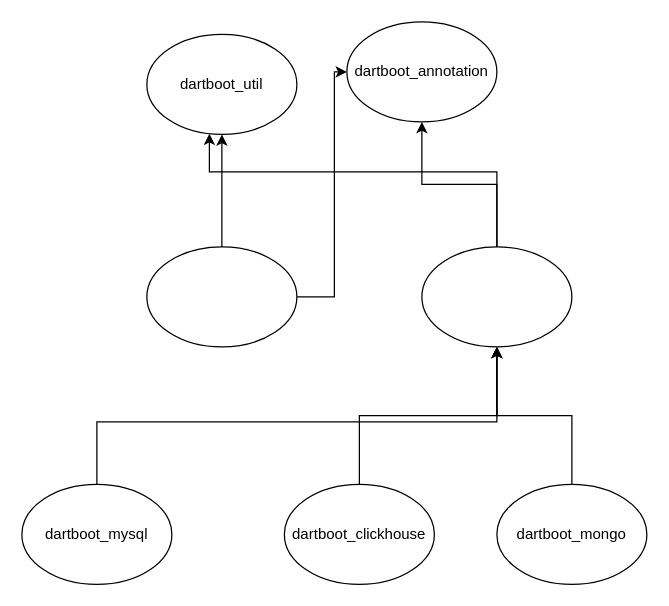
Some shapes in this 669 by 606 pixel diagram are drawn without their labels. The shapes that lost their labels are listed below. From the top down, each one's centre as x and y in pixels, then its label:
point (221, 296): dartboot_core
point (496, 296): dartboot_db
